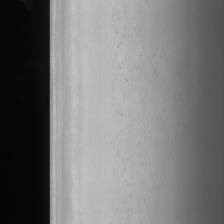silk_spot: (107, 4, 172, 216)
